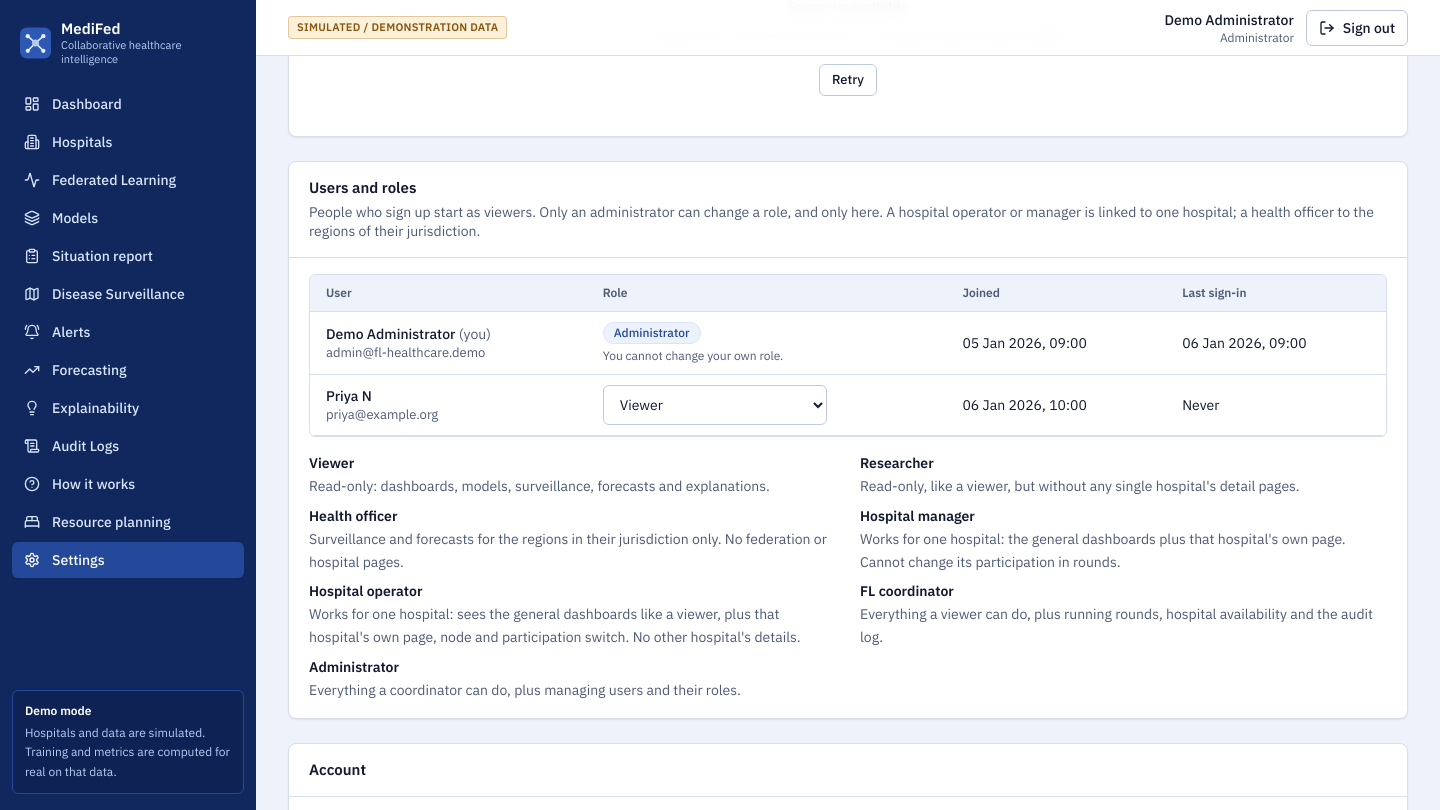
Test: roles › lets an administrator change another user's role, but not their own or a locked one
(page scrolled)
Expected: the text "You cannot change your own role." is shown, [603, 348, 783, 363]
Select "FL coordinator" in the dropdown named "Role for priya@example.org" at (715, 405), box [603, 385, 827, 425]
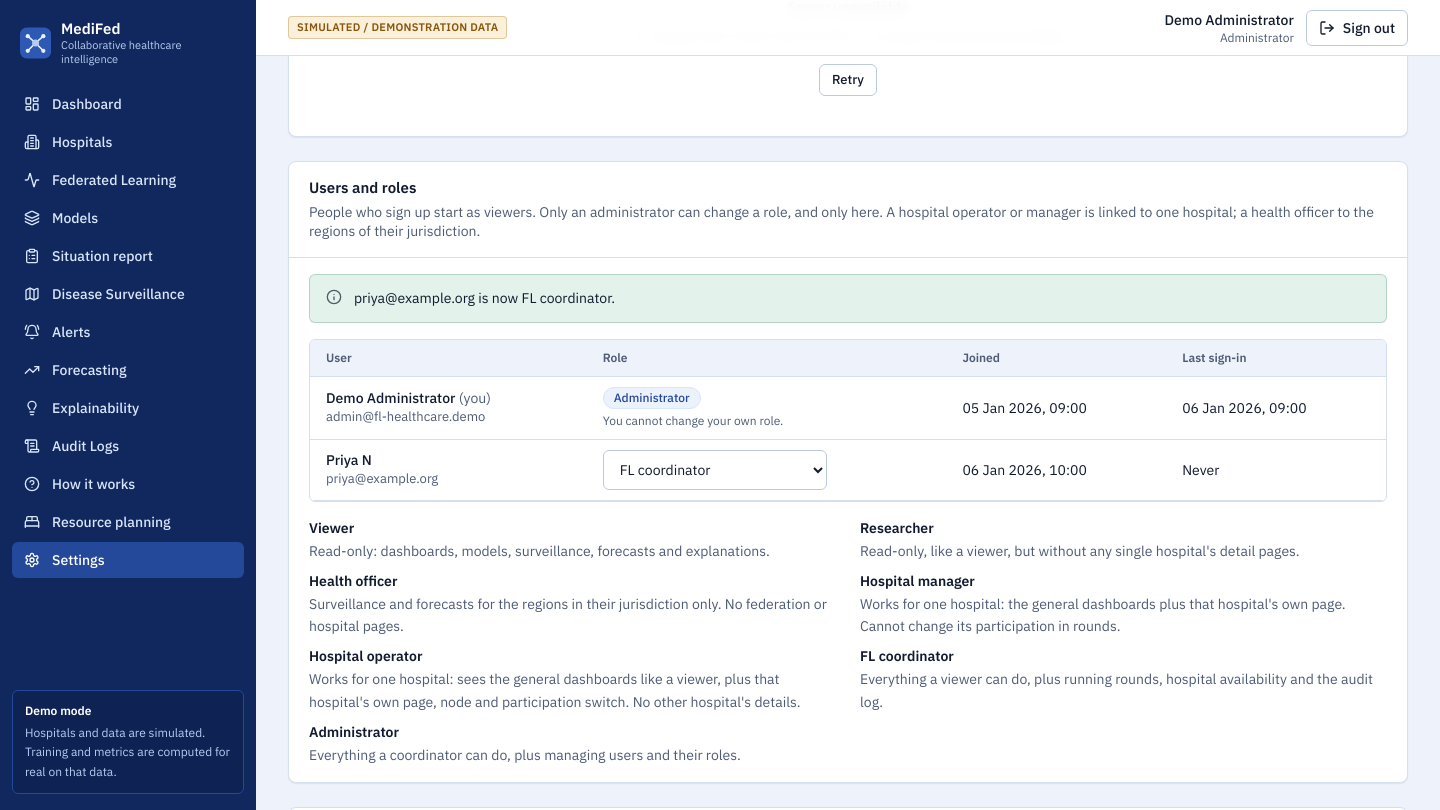
Expected: the text "priya@example.org is now FL coordinator." is shown, [354, 287, 615, 310]
